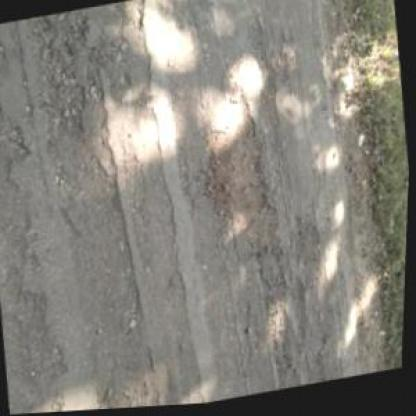pothole: (194, 90, 289, 282)
